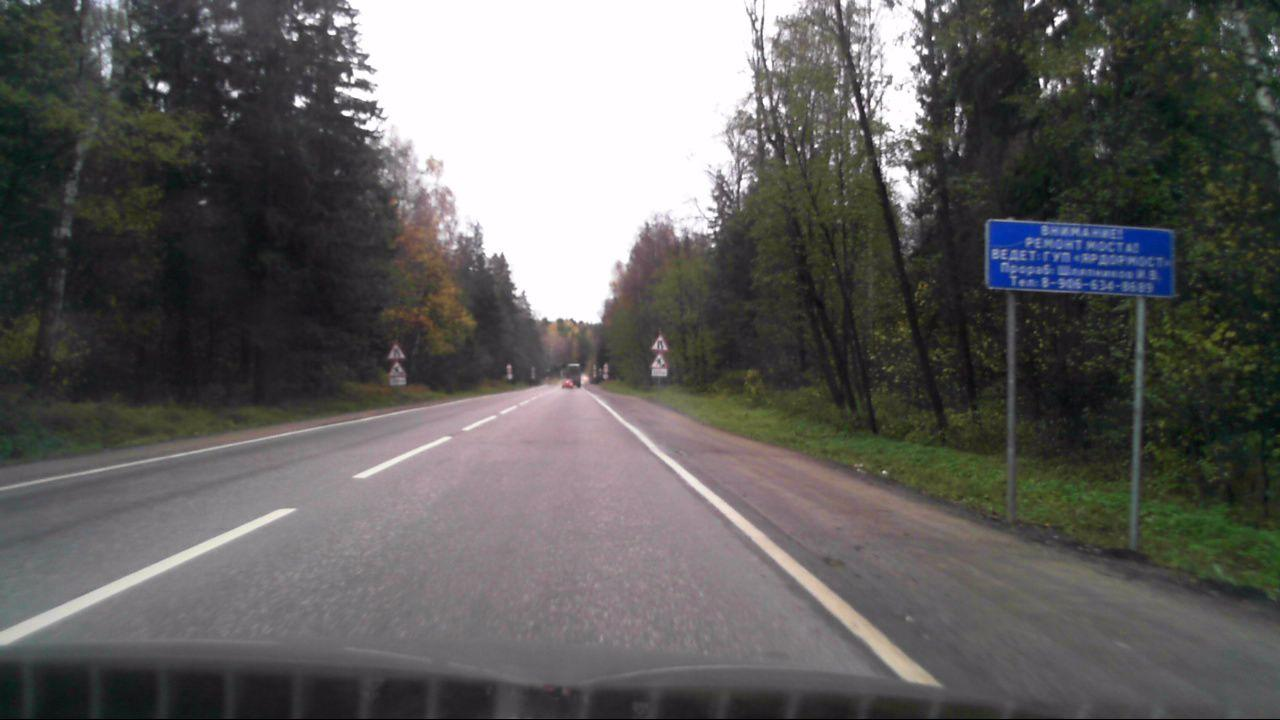1_20_2: (385, 339, 408, 360), (650, 331, 669, 351)
1_25: (387, 360, 407, 377), (649, 353, 668, 369)
8_1_1: (652, 369, 669, 378), (390, 378, 406, 387)
